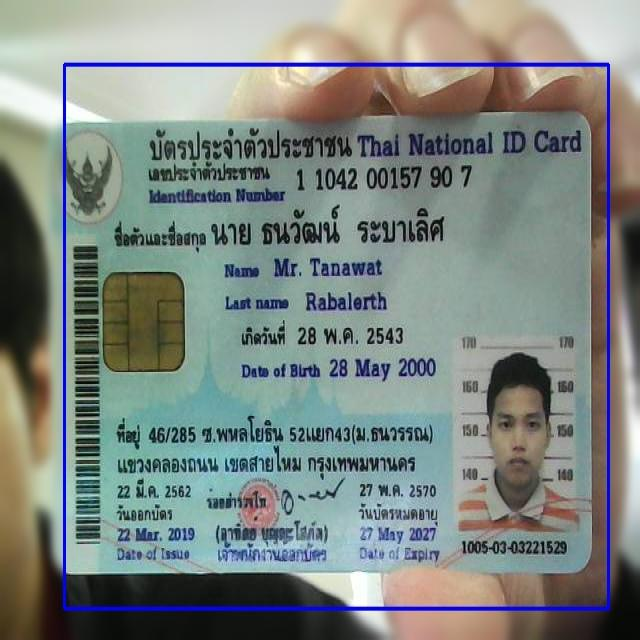Address_th: (106, 406, 440, 484)
Date_of_Birth: (325, 352, 438, 386)
Date_of_Expiry: (356, 520, 440, 544)
Date_of_Issue: (114, 524, 203, 546)
First_Name: (268, 250, 386, 283)
ID_Number: (292, 161, 474, 194)
Image: (452, 330, 578, 537)
Last_Name: (301, 286, 389, 315)
Thai_Name: (210, 203, 453, 256)
